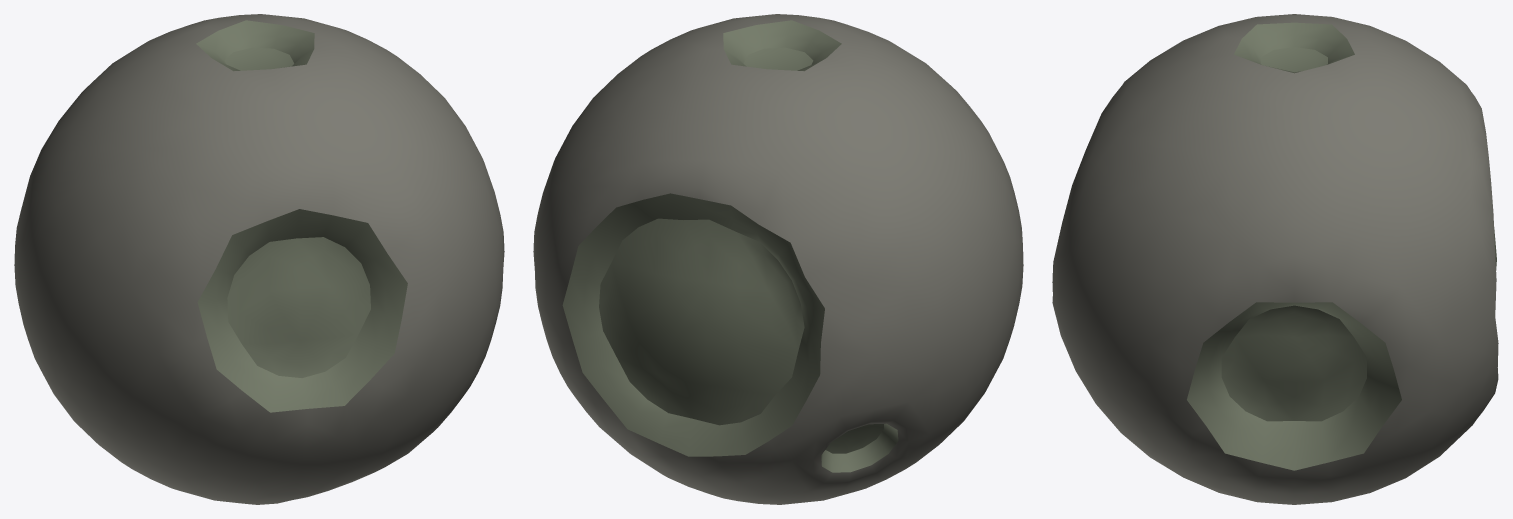
File: quaternius-ultimate-space-planet-3.glb
3 renders of one model, left to right at view 1: azimuth 30°, elevation 25°; view 2: azimuth 150°, elevation 25°; view 3: azimuth 270°, elevation 25°, orthographic.
Parts seen in each view (by area): view 1: Planet_3; view 2: Planet_3; view 3: Planet_3.
Boxes of the visible parts, bbox=[...] form: Planet_3: bbox=[14, 14, 504, 504]; Planet_3: bbox=[533, 14, 1023, 504]; Planet_3: bbox=[1052, 14, 1498, 504].
Size of the model in its own units: 3.63 by 3.65 by 3.38.
1 material, 1 textured.
